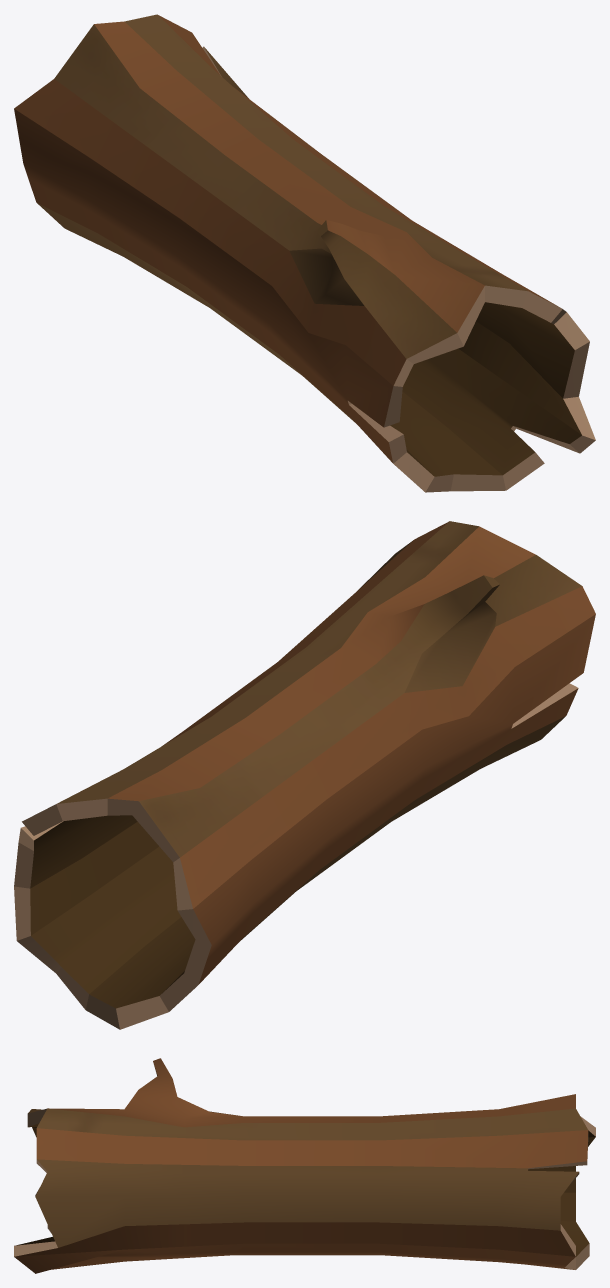
The model's file is Log.fbx.
3 views of the same model, one above another, from view 1: azimuth 30°, elevation 25°; view 2: azimuth 150°, elevation 25°; view 3: azimuth 270°, elevation 25° (orthographic). The views are drawn at different scales.
Parts seen in each view (by area): view 1: Log; view 2: Log; view 3: Log.
Boxes of the visible parts, x1=… form: Log: x1=14, y1=14, x2=595, y2=492; Log: x1=14, y1=521, x2=595, y2=1029; Log: x1=14, y1=1058, x2=595, y2=1273.
Bounding box in the file's own units: 97.22 × 110 × 329.
